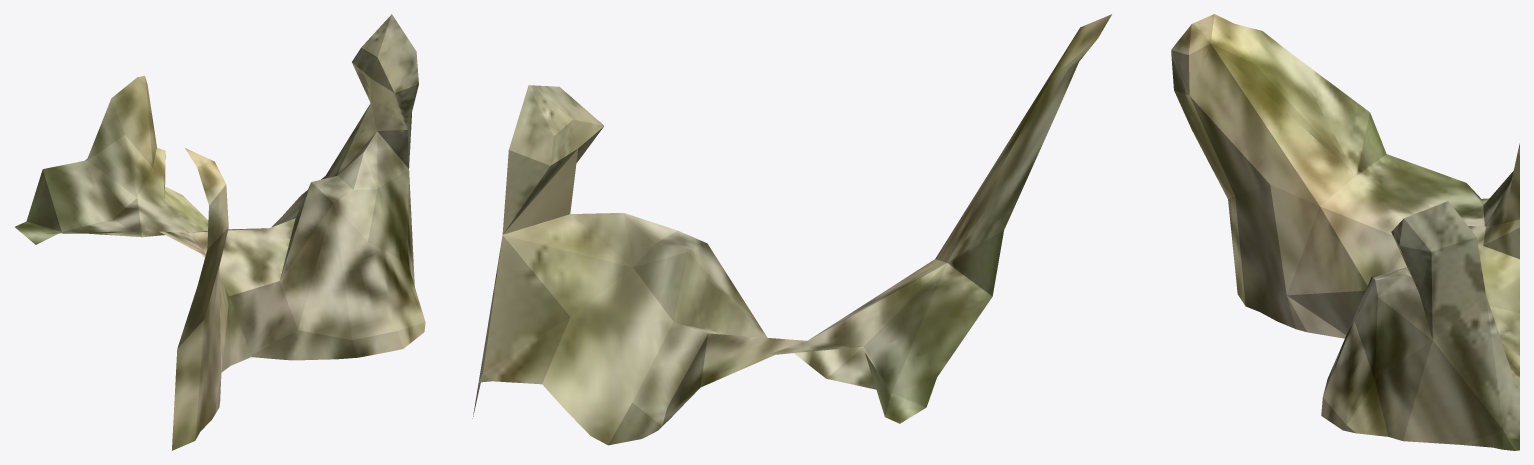
3 views of the same model, side by side, from view 1: azimuth 30°, elevation 25°; view 2: azimuth 150°, elevation 25°; view 3: azimuth 270°, elevation 25° (orthographic). The views are drawn at different scales.
Size of the model in its own units: 1.07 by 0.8933 by 1.01.
Materials: 1 (1 with a texture image).
